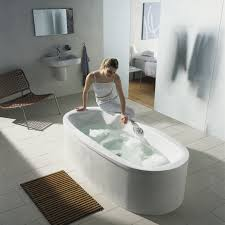bathub: (59, 102, 192, 215)
